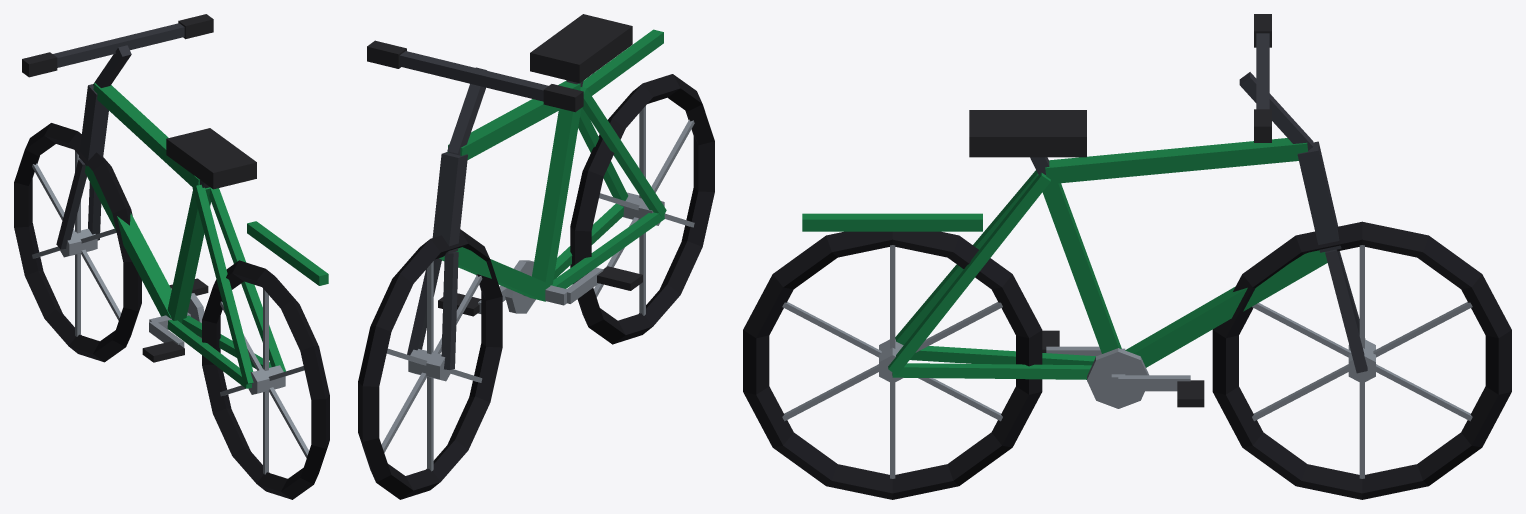
File: veh_bicycle.glb
The picture shows the model from 3 angles, left to right: view 1: azimuth 30°, elevation 25°; view 2: azimuth 150°, elevation 25°; view 3: azimuth 270°, elevation 25°; orthographic projection. The views are drawn at different scales.
Parts seen in each view (by area): view 1: veh_bicycle_frame, wheel_rear_mesh, wheel_front_mesh, crank_mesh; view 2: veh_bicycle_frame, wheel_front_mesh, wheel_rear_mesh, crank_mesh; view 3: veh_bicycle_frame, wheel_front_mesh, wheel_rear_mesh, crank_mesh.
Part boxes in pixels (x1,y1,x2,y2): veh_bicycle_frame: [22, 14, 328, 388]; wheel_rear_mesh: [202, 260, 329, 499]; wheel_front_mesh: [14, 123, 141, 362]; crank_mesh: [142, 278, 208, 362]; veh_bicycle_frame: [367, 14, 666, 369]; wheel_front_mesh: [358, 229, 502, 499]; wheel_rear_mesh: [570, 74, 714, 344]; crank_mesh: [438, 260, 642, 316]; veh_bicycle_frame: [802, 14, 1367, 379]; wheel_front_mesh: [1212, 221, 1511, 499]; wheel_rear_mesh: [743, 231, 1042, 499]; crank_mesh: [1042, 330, 1204, 408].
Size of the model in its own units: 0.59 by 1.05 by 1.7.
